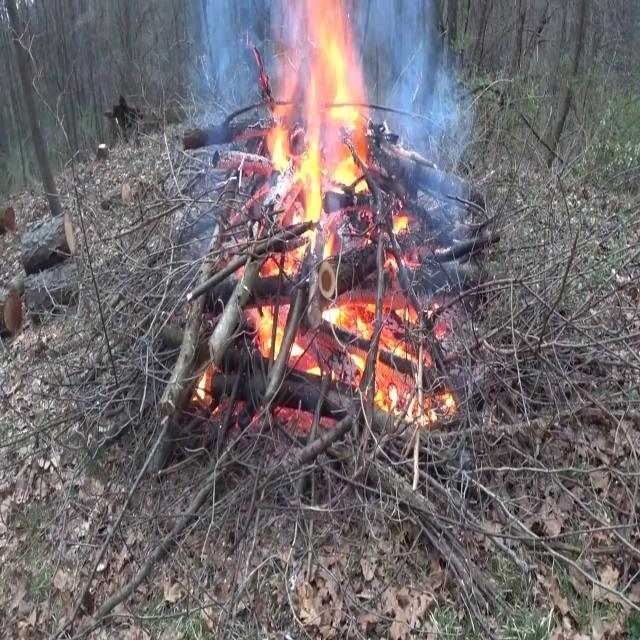Fire: (235, 0, 445, 424), (254, 2, 380, 256)
Smoke: (371, 2, 475, 230)
